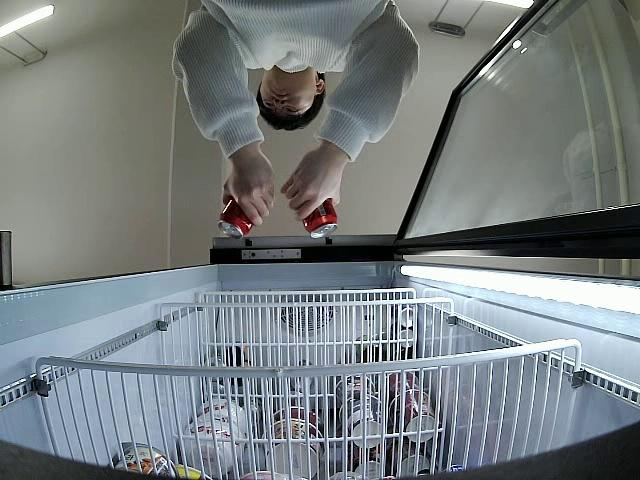00_hand: (279, 147, 342, 218), (223, 162, 274, 229)
11_cocaColaZero: (300, 195, 337, 239), (219, 197, 252, 239)
